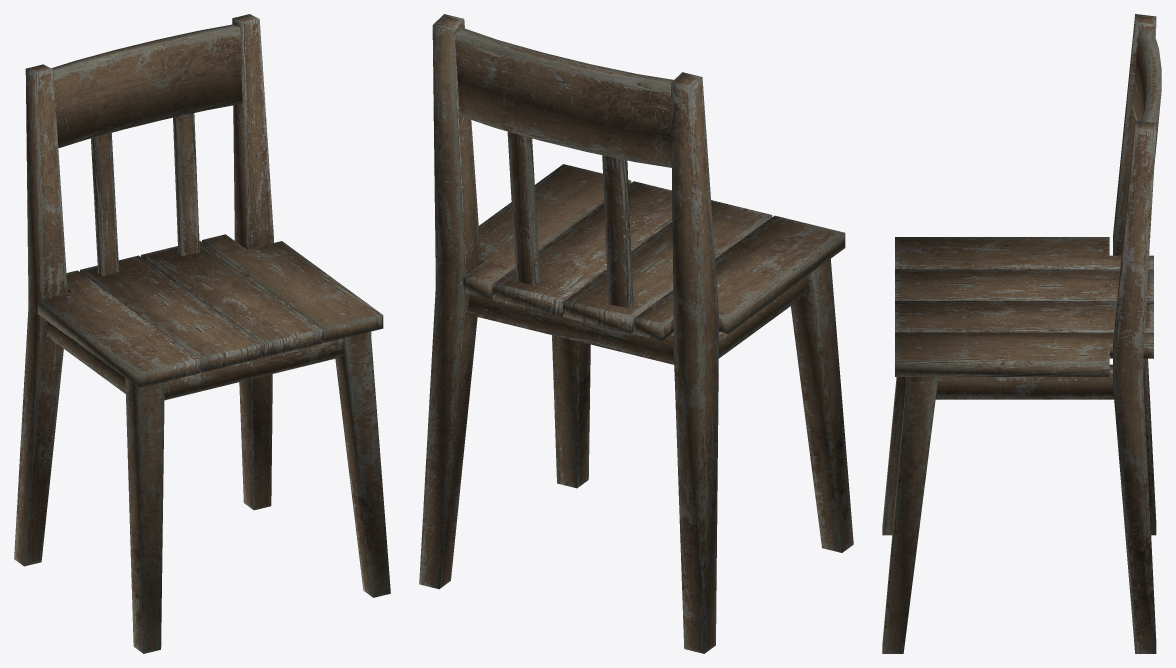
Rendered from chair.glb.
The picture shows the model from 3 angles, left to right: view 1: azimuth 30°, elevation 25°; view 2: azimuth 150°, elevation 25°; view 3: azimuth 270°, elevation 25°; orthographic projection. The views are drawn at different scales.
Visible parts, largest first — view 1: Box007__0; view 2: Box007__0; view 3: Box007__0.
Boxes of the visible parts, bbox=[...] form: Box007__0: bbox=[14, 14, 390, 653]; Box007__0: bbox=[419, 14, 853, 653]; Box007__0: bbox=[882, 14, 1161, 653].
Bounding box in the file's own units: 0.425 × 0.805 × 0.3932.
1 material, 1 textured.
